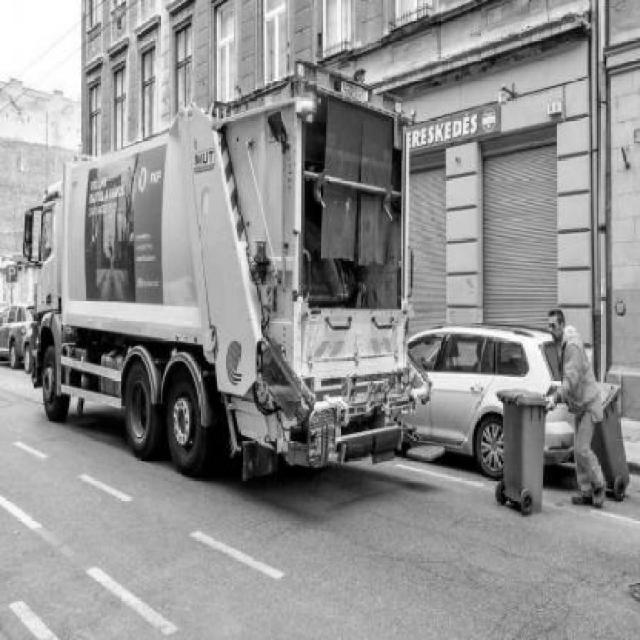Garbage Truck: (19, 58, 449, 483)
